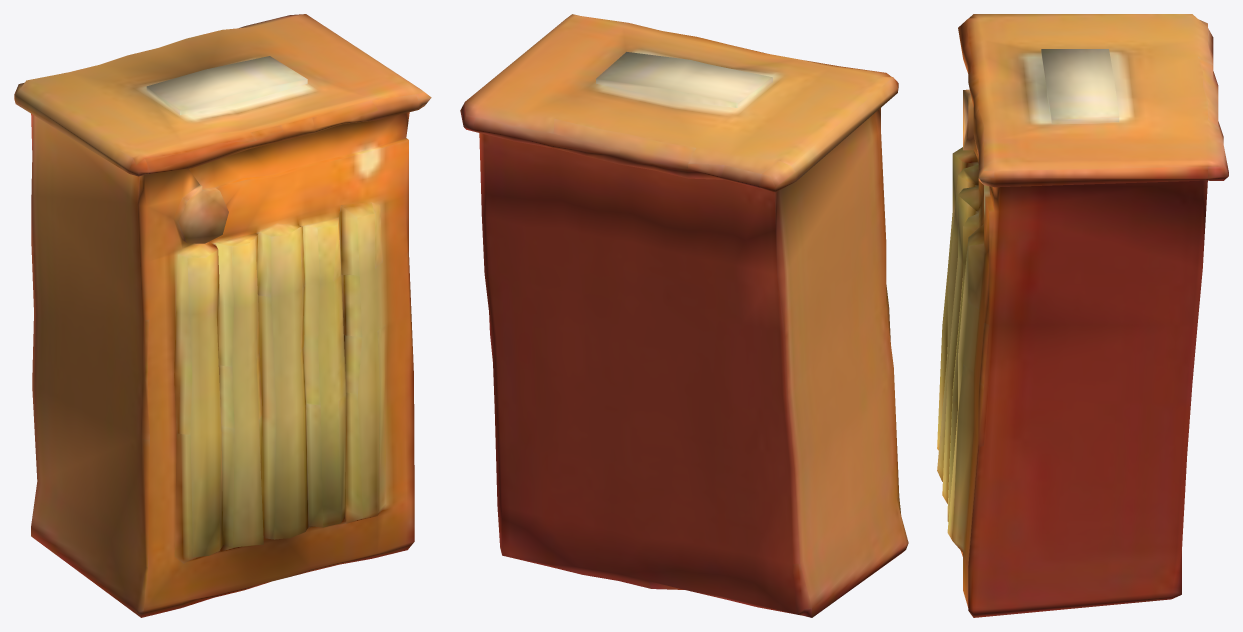
The model's file is spaghetti.glb.
3 views of the same model, side by side, from view 1: azimuth 30°, elevation 25°; view 2: azimuth 150°, elevation 25°; view 3: azimuth 270°, elevation 25° (orthographic). The views are drawn at different scales.
Parts seen in each view (by area): view 1: Spaghetti; view 2: Spaghetti; view 3: Spaghetti.
Boxes of the visible parts, x1,y1,x2,y2 form: Spaghetti: (14, 14, 431, 617); Spaghetti: (460, 14, 908, 617); Spaghetti: (937, 14, 1228, 617).
Size of the model in its own units: 1.1 by 1.54 by 0.8646.
1 material, 1 textured.
